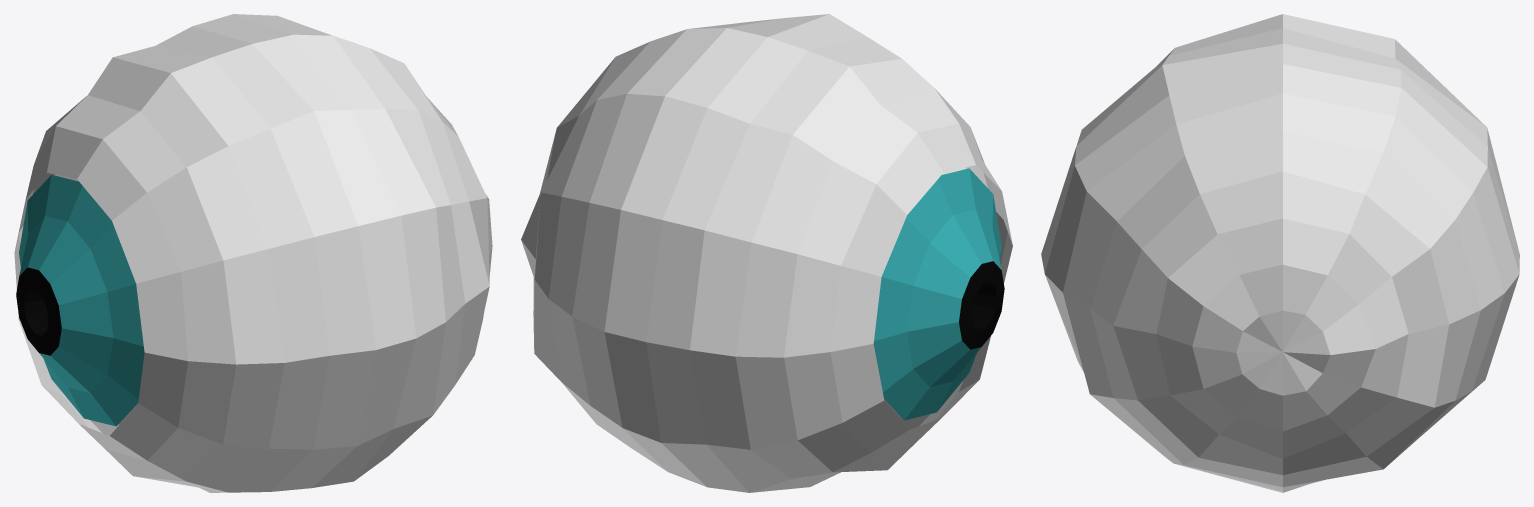
File: eye2.fbx
The picture shows the model from 3 angles, left to right: view 1: azimuth 30°, elevation 25°; view 2: azimuth 150°, elevation 25°; view 3: azimuth 270°, elevation 25°; orthographic projection. The views are drawn at different scales.
Visible parts, largest first — view 1: Sphere.002, Eye; view 2: Sphere.002, Eye; view 3: Sphere.002.
Boxes of the visible parts, x1,y1,x2,y2 form: Sphere.002: [14, 14, 492, 492]; Eye: [16, 175, 144, 426]; Sphere.002: [521, 14, 1012, 492]; Eye: [873, 168, 1004, 420]; Sphere.002: [1041, 14, 1519, 492].
Bounding box in the file's own units: 607 × 595 × 602.
